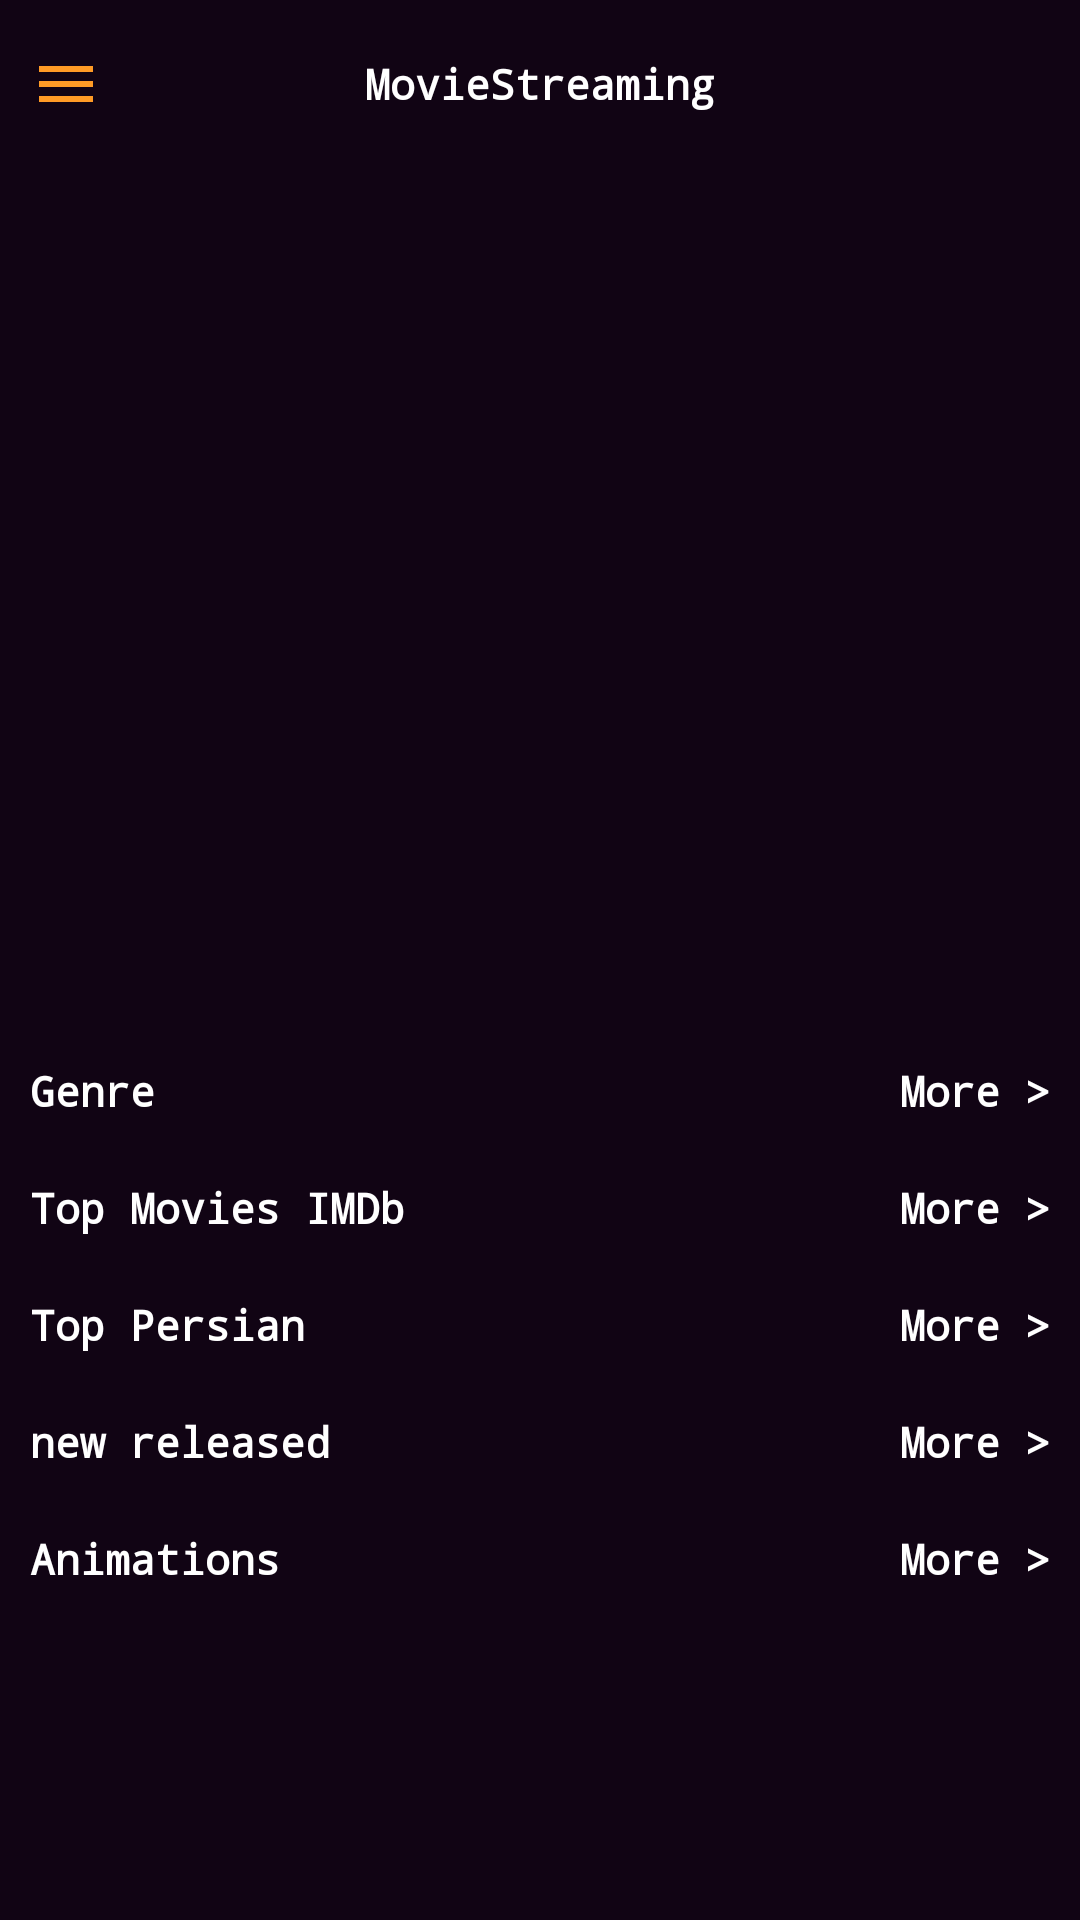

Icons on this 1080w x 1920h Android screen, each with the point to tap as [x,y]:
menu: [66,84]
